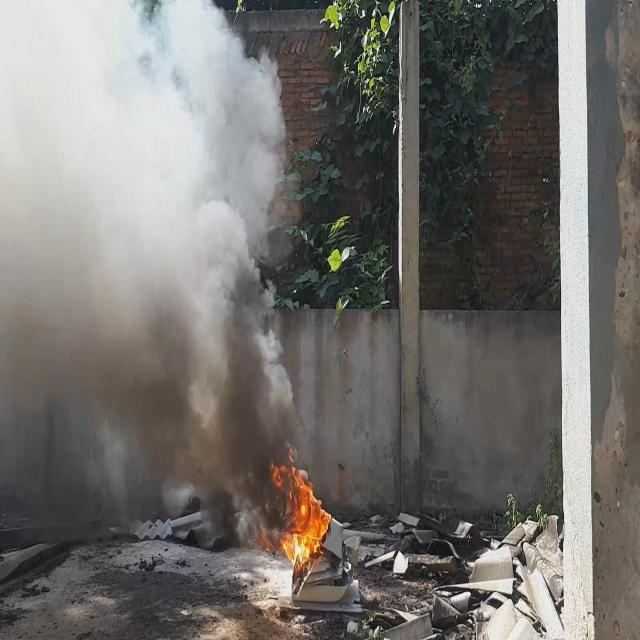Fire: (268, 456, 336, 571)
Smoke: (0, 0, 300, 537)
